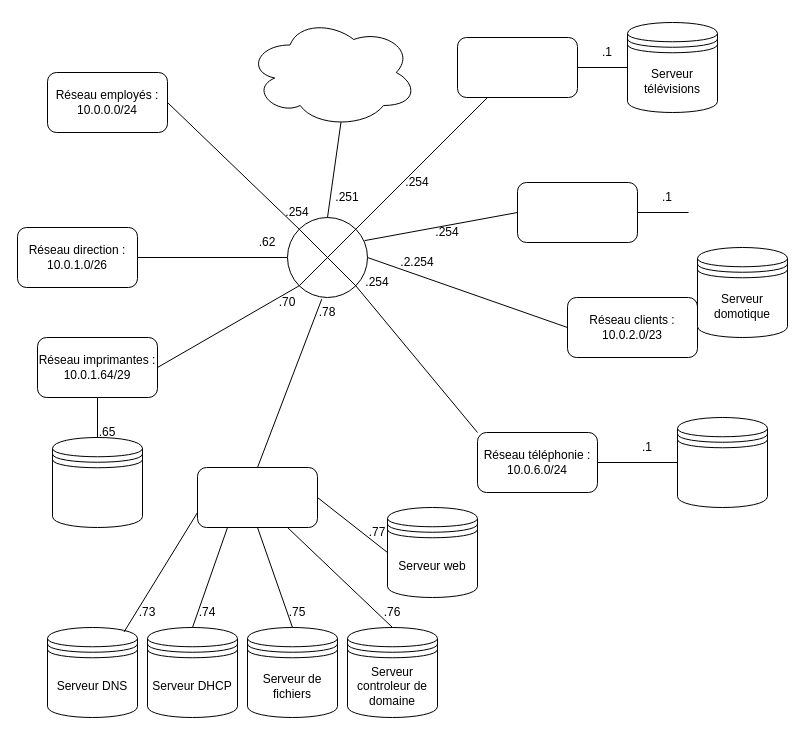
Some shapes in this 805 by 735 pixel diagram are drawn without their labels. The centre of each missing label's shape, as x and y in pixels:
FAI : 175.45.176.254/24: [332,72]
Réseau domotique : 10.0.4.0/24: [577,212]
Réseau serveur : 10.0.1.72/29: [257,497]
Réseau télévisions : 10.0.5.0/24: [517,67]
Serveur d'impression: [97,482]
Serveur téléphonie: [722,462]
